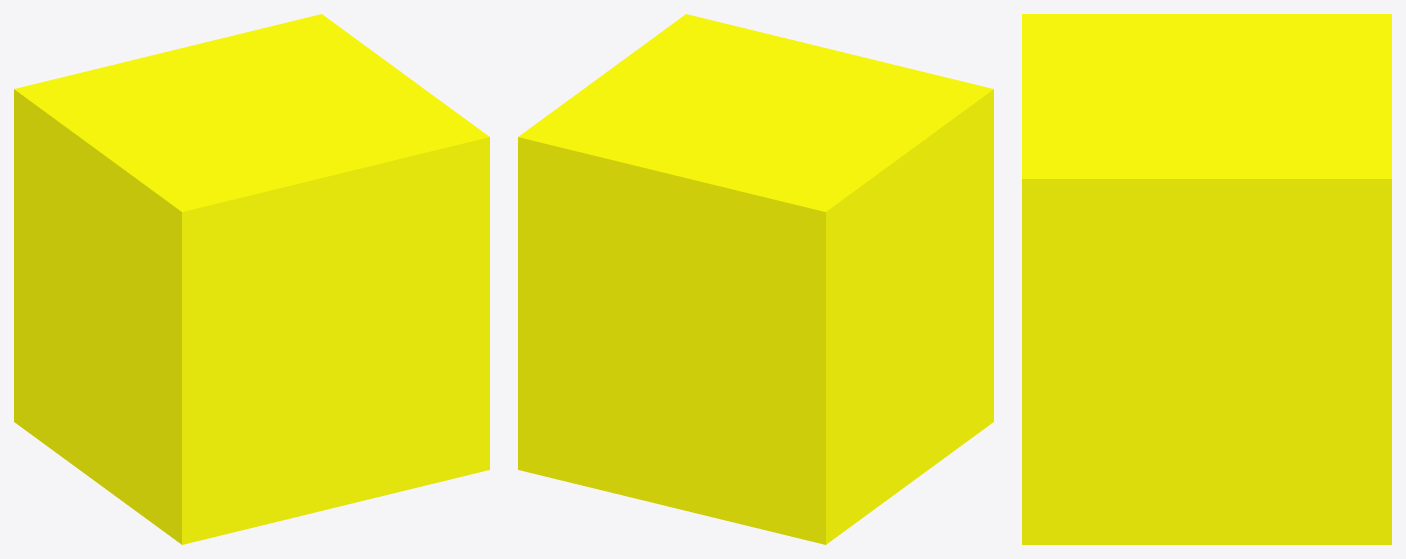
Rendered from SM_ETC01.glb.
The picture shows the model from 3 angles, left to right: view 1: azimuth 30°, elevation 25°; view 2: azimuth 150°, elevation 25°; view 3: azimuth 270°, elevation 25°; orthographic projection. The views are drawn at different scales.
Parts seen in each view (by area): view 1: SM_ETC01; view 2: SM_ETC01; view 3: SM_ETC01.
Part boxes in pixels (x1,y1,x2,y2): SM_ETC01: (14, 14, 489, 544); SM_ETC01: (518, 14, 993, 544); SM_ETC01: (1022, 14, 1391, 544).
Size of what is drawn, in the model's own units: 0.8974 by 0.927 by 0.849.
Materials: 1 (1 with a texture image).
